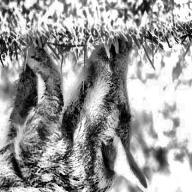boar: (4, 28, 152, 192)
